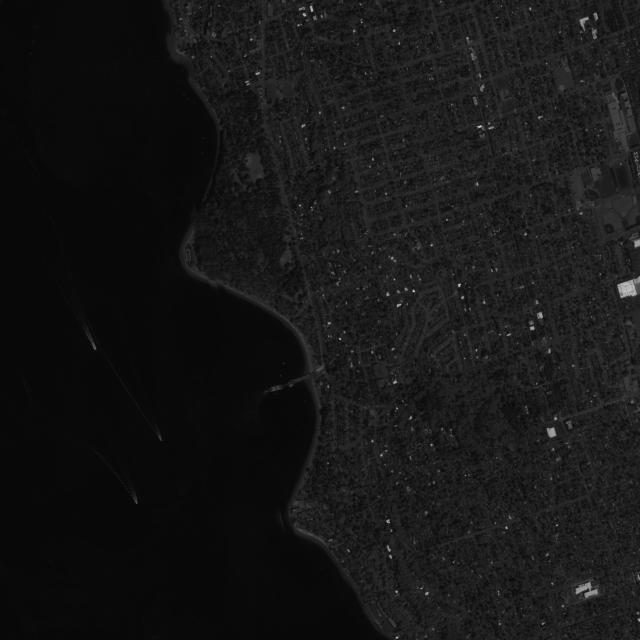ship: (263, 383, 286, 394), (159, 437, 163, 442), (135, 500, 138, 504), (94, 348, 97, 351)
